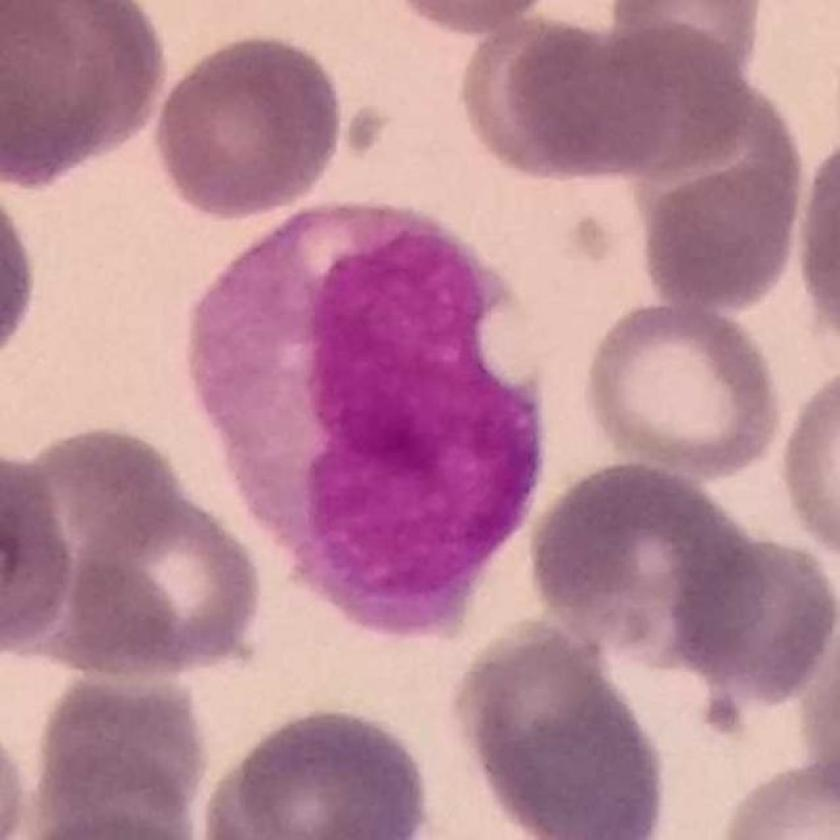monocyte: (185, 197, 552, 657)
